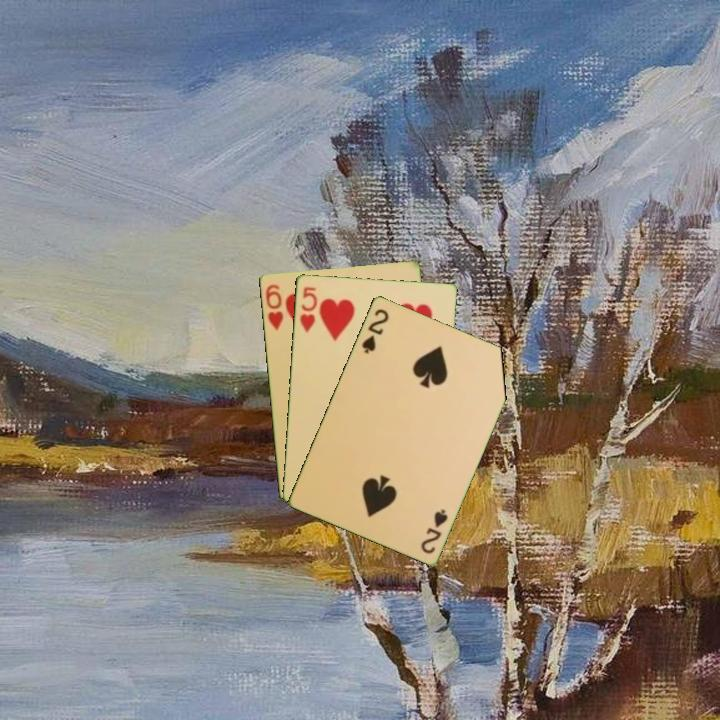2s: (417, 505, 451, 556), (358, 305, 391, 356)
5h: (296, 283, 320, 335)
6h: (262, 281, 286, 333)
